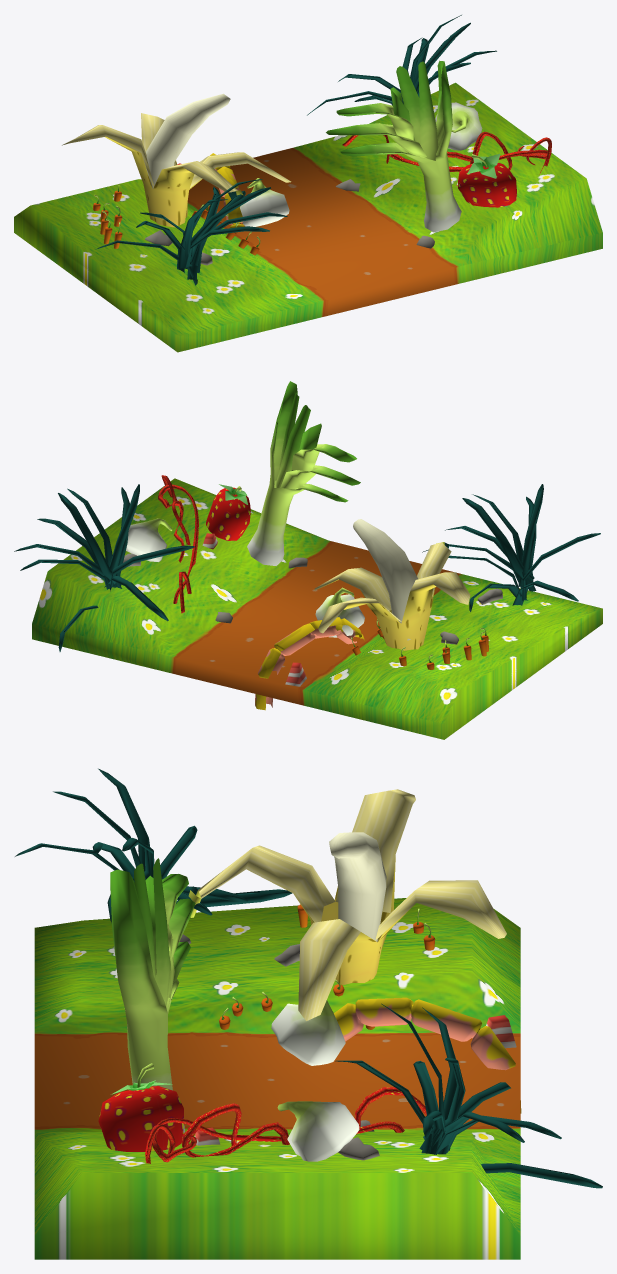
The model's file is D_block_19.FBX.
The picture shows the model from 3 angles, top to bottom: view 1: azimuth 30°, elevation 25°; view 2: azimuth 150°, elevation 25°; view 3: azimuth 270°, elevation 25°; orthographic projection. The views are drawn at different scales.
Visible parts, largest first — view 1: sol; view 2: sol; view 3: sol.
Boxes of the visible parts, box(x1,y1,x2,y2) form: sol: box(14, 15, 602, 352); sol: box(14, 381, 602, 739); sol: box(15, 768, 602, 1259).
Size of the model in its own units: 1017 by 439 by 727.
